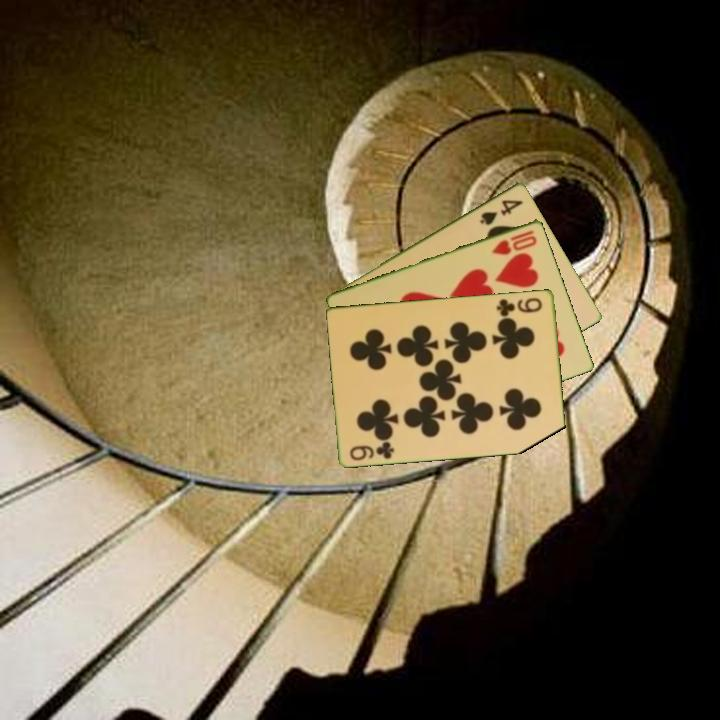10h: (488, 226, 540, 258)
4s: (476, 196, 526, 228)
9c: (346, 437, 397, 463), (493, 294, 545, 319)
